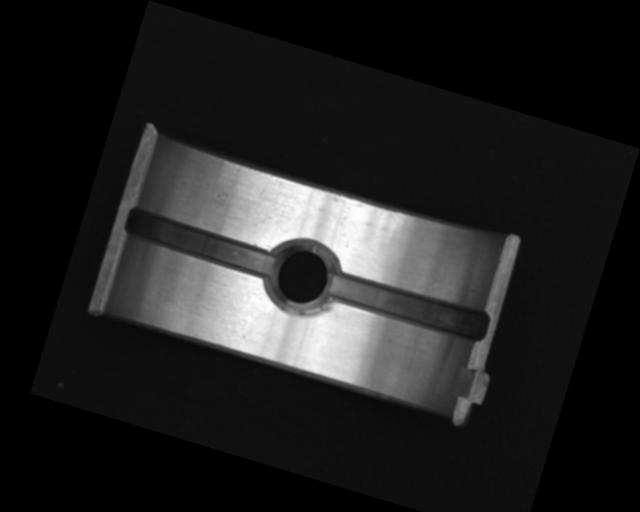gap: (325, 264, 492, 347), (121, 206, 280, 279)
hole: (255, 227, 349, 326)
